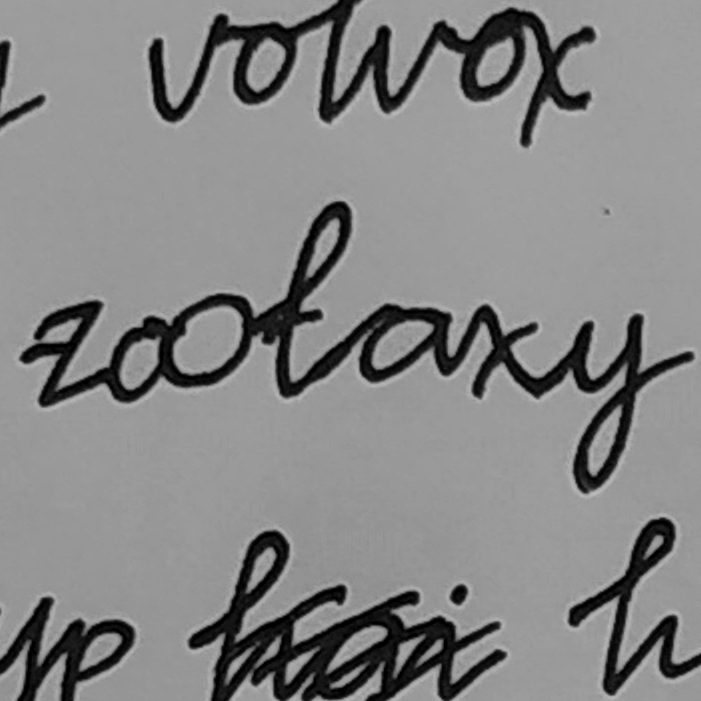a: (356, 300, 456, 389)
o: (152, 286, 259, 391), (107, 309, 174, 406)
t: (262, 195, 354, 401)
x: (459, 300, 546, 407)
y: (558, 305, 647, 495)
z: (15, 294, 106, 410)
